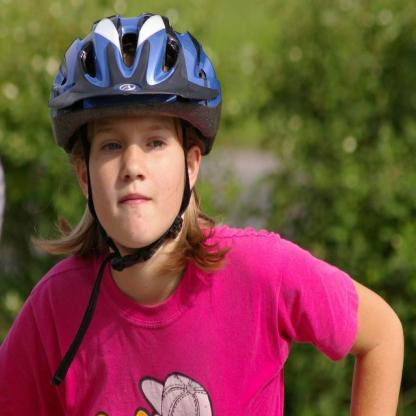Helmet: (48, 11, 222, 388)
